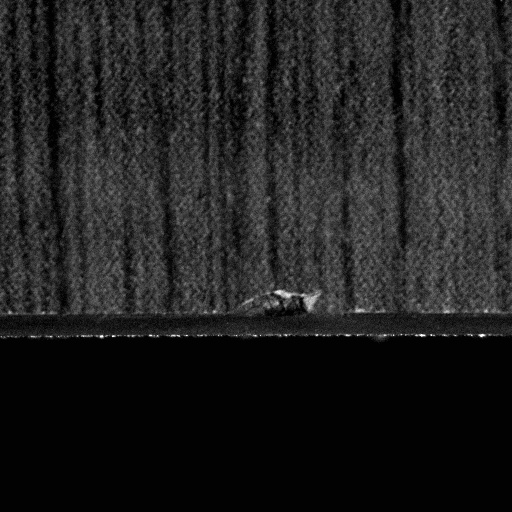bengque: (233, 289, 350, 321)
